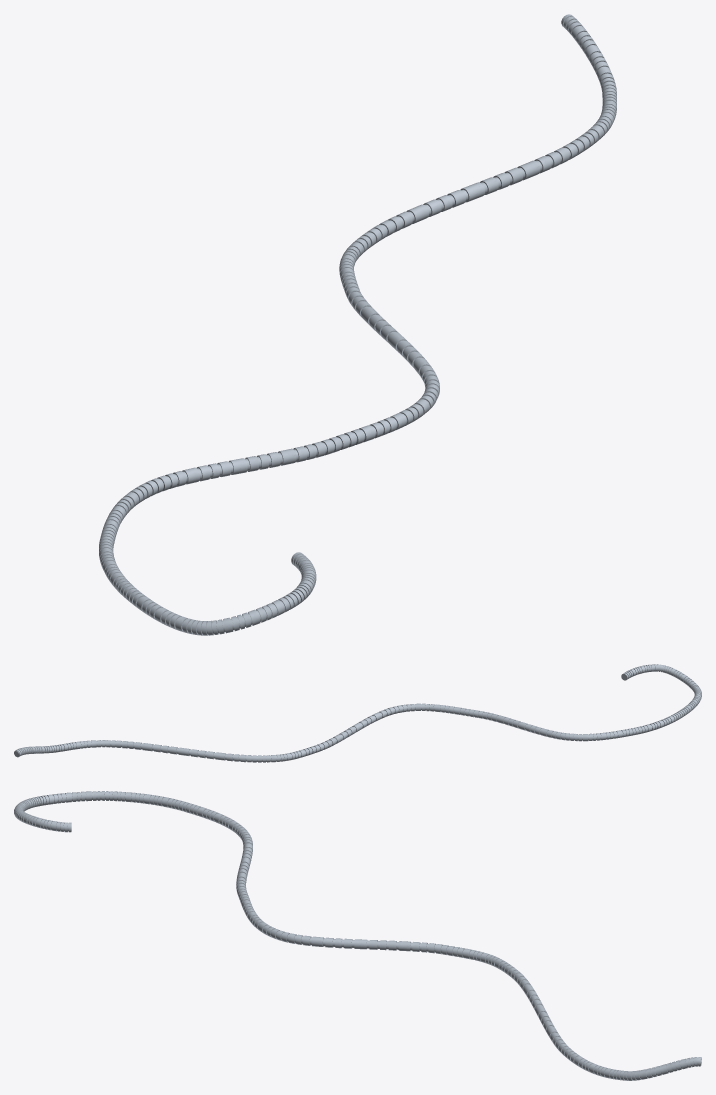
Rendered from SM_Cable_1_Splines_3.fbx.
The picture shows the model from 3 angles, top to bottom: view 1: azimuth 30°, elevation 25°; view 2: azimuth 150°, elevation 25°; view 3: azimuth 270°, elevation 25°; orthographic projection. The views are drawn at different scales.
Visible parts, largest first — view 1: SM_Cable_1_Splines_3; view 2: SM_Cable_1_Splines_3; view 3: SM_Cable_1_Splines_3.
Part boxes in pixels (x1,y1,x2,y2): SM_Cable_1_Splines_3: (99, 14, 616, 635); SM_Cable_1_Splines_3: (14, 664, 701, 762); SM_Cable_1_Splines_3: (14, 791, 701, 1080).
Bounding box in the file's own units: 548 × 548 × 26.89.
